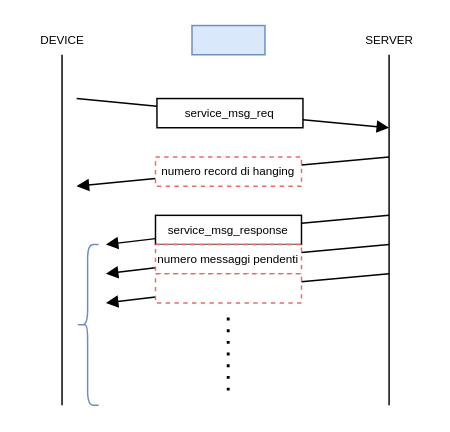
Some shapes in this 450 by 432 pixel diagram are drawn without their labels. The box of each missing label's shape, as (x1, y1, x2, y2) in pixels:
HANGING: (191, 24, 265, 55)
timestamp ultimo messaggio: (154, 272, 301, 303)
